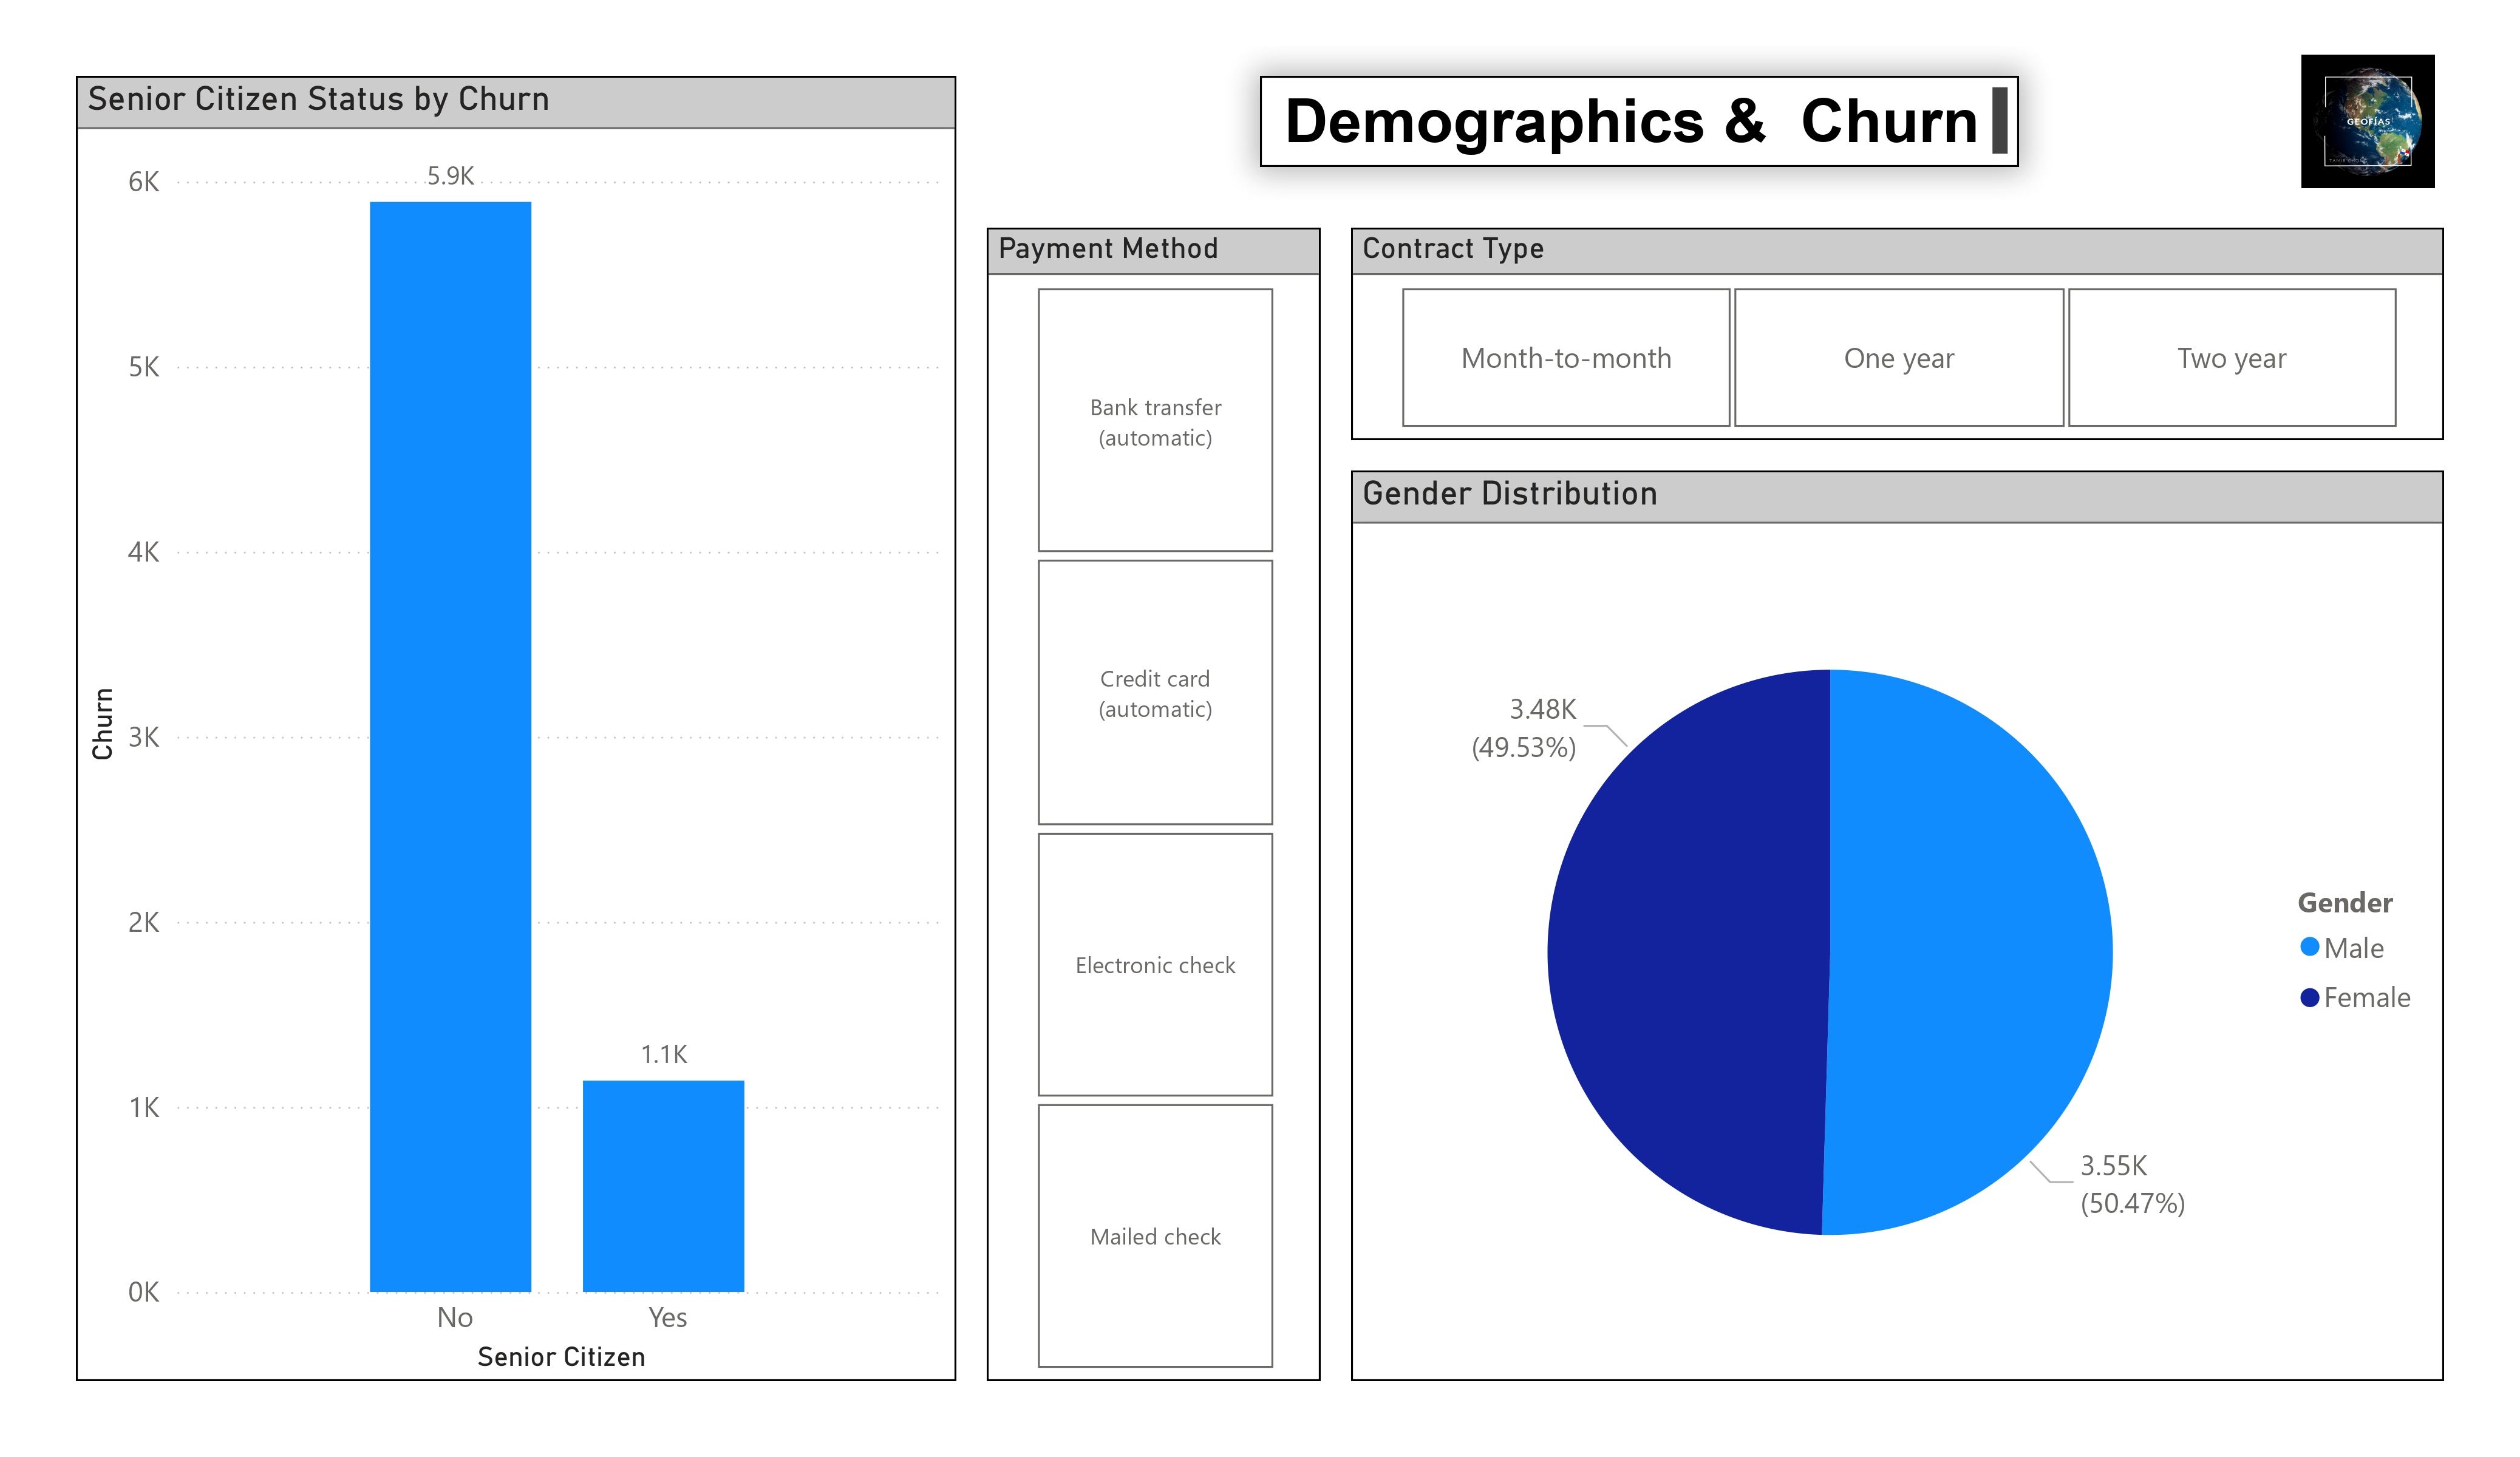

The page's visual inventory and layout, read from the dashboard file:
{"tool":"powerbi","page":{"name":"Demographic Insights","canvas":[1280,720],"ordinal":3},"visuals":[{"type":"image","box":[1184,0,80,80],"z":0},{"type":"textbox","box":[640,16,400,48],"z":1000},{"type":"pieChart","title":"Gender Distribution","fields":{"Category":["churn_customers.gender"],"Y":["CountNonNull(churn_customers.gender)"]},"box":[688,224,576,480],"z":2000},{"type":"columnChart","title":"Senior Citizen Status by Churn","fields":{"Category":["churn_customers.SeniorCitizen"],"Y":["CountNonNull(churn_customers.Churn)"]},"box":[16,16,464,688],"z":2001},{"type":"slicer","title":"Contract Type","fields":{"Values":["churn_customers.Contract"]},"box":[688,96,576,112],"z":2002},{"type":"slicer","title":"Payment Method","fields":{"Values":["churn_customers.PaymentMethod"]},"box":[496,96,176,608],"z":2003}]}

Visuals, with their boxes on the page's 1280x720 design canvas (x1, y1, x2, y2). These are canvas units, not pixel positions in the 2520x1457 screenshot, which may show the page scaled, cropped or inside an application window:
image: 1184,0,1264,80
textbox: 640,16,1040,64
"Gender Distribution" pieChart: 688,224,1264,704
"Senior Citizen Status by Churn" columnChart: 16,16,480,704
"Contract Type" slicer: 688,96,1264,208
"Payment Method" slicer: 496,96,672,704
